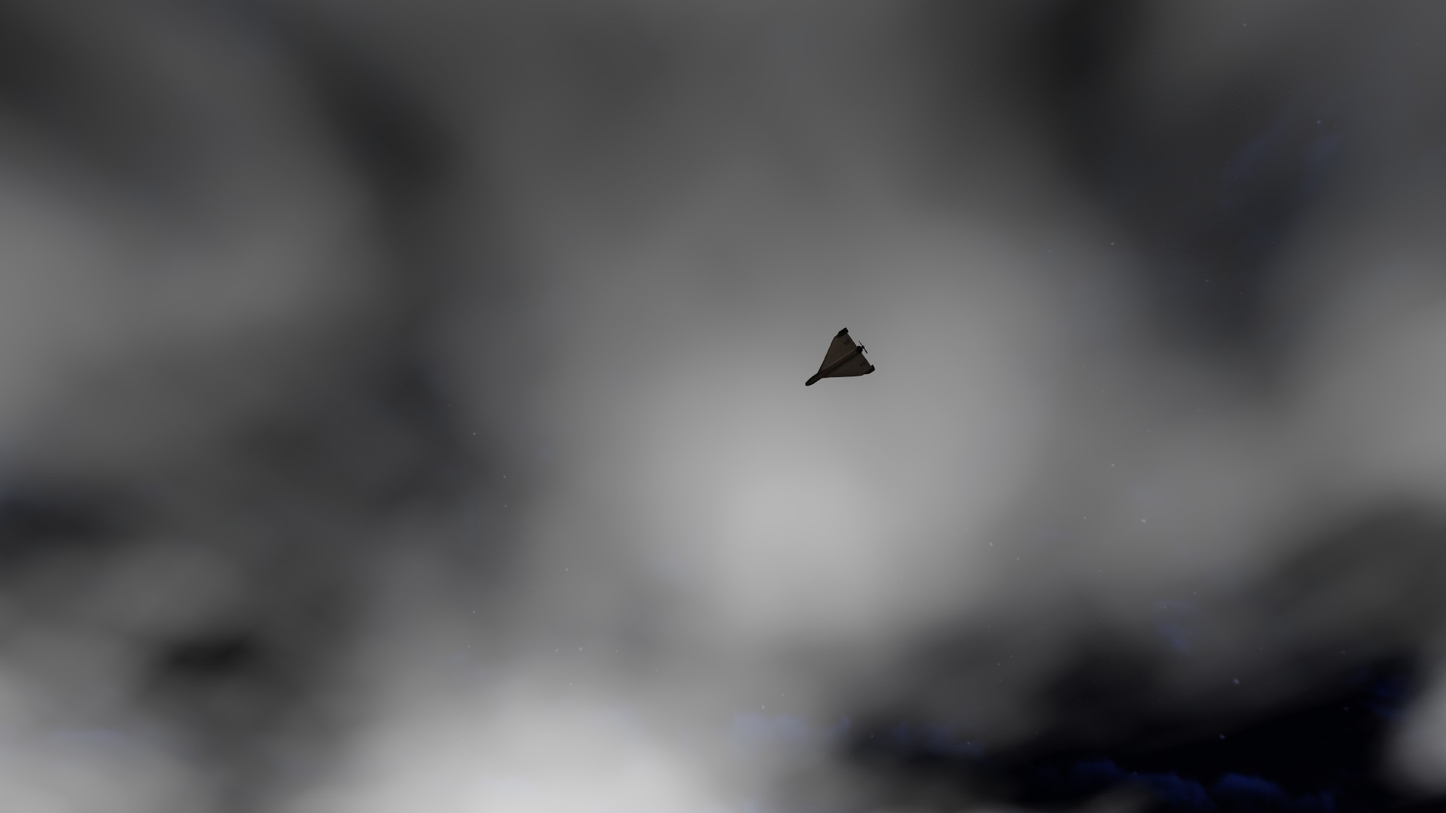shahed: (805, 327, 876, 386)
